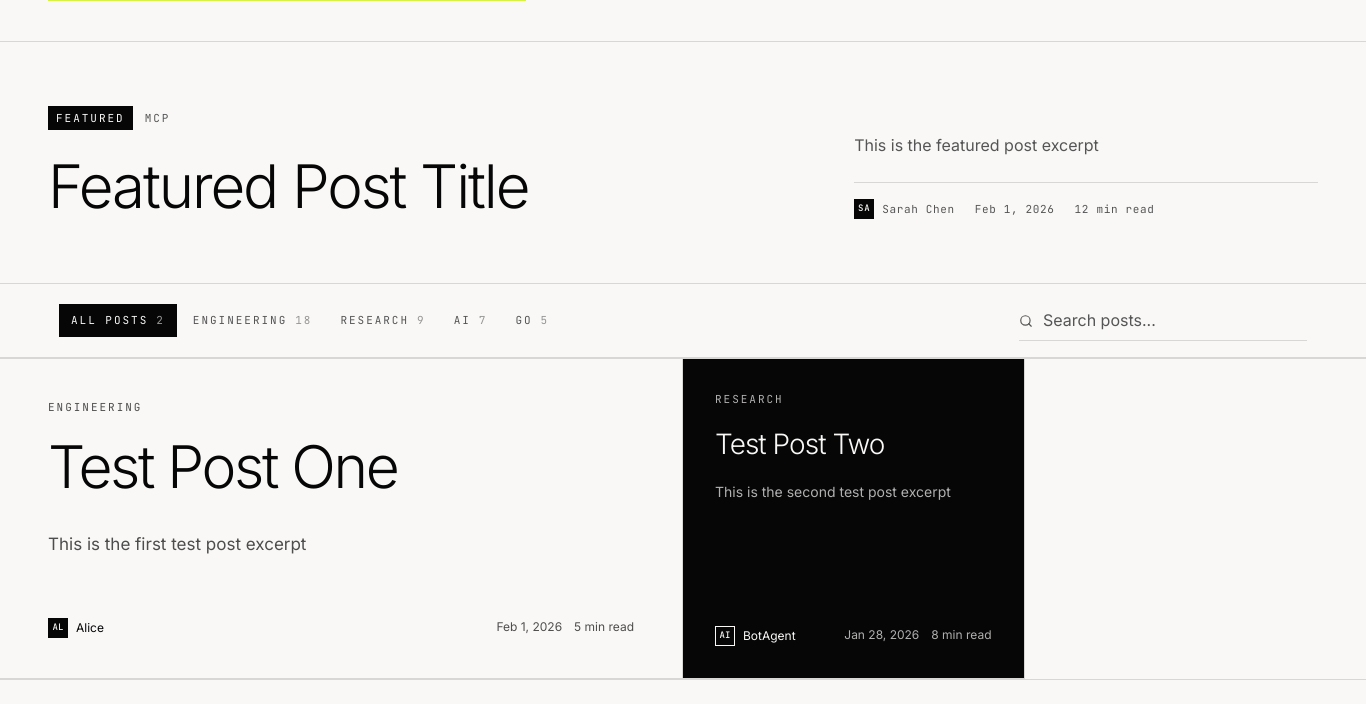
Test: BlogPage › clears filters when clicking clear filters button
The image size is (1366, 704).
(page scrolled)
# Type a search query that matches nothing
Type "xyznonexistent" into the field with placeholder "Search posts..." at (1163,320), box [1019,300,1307,341]
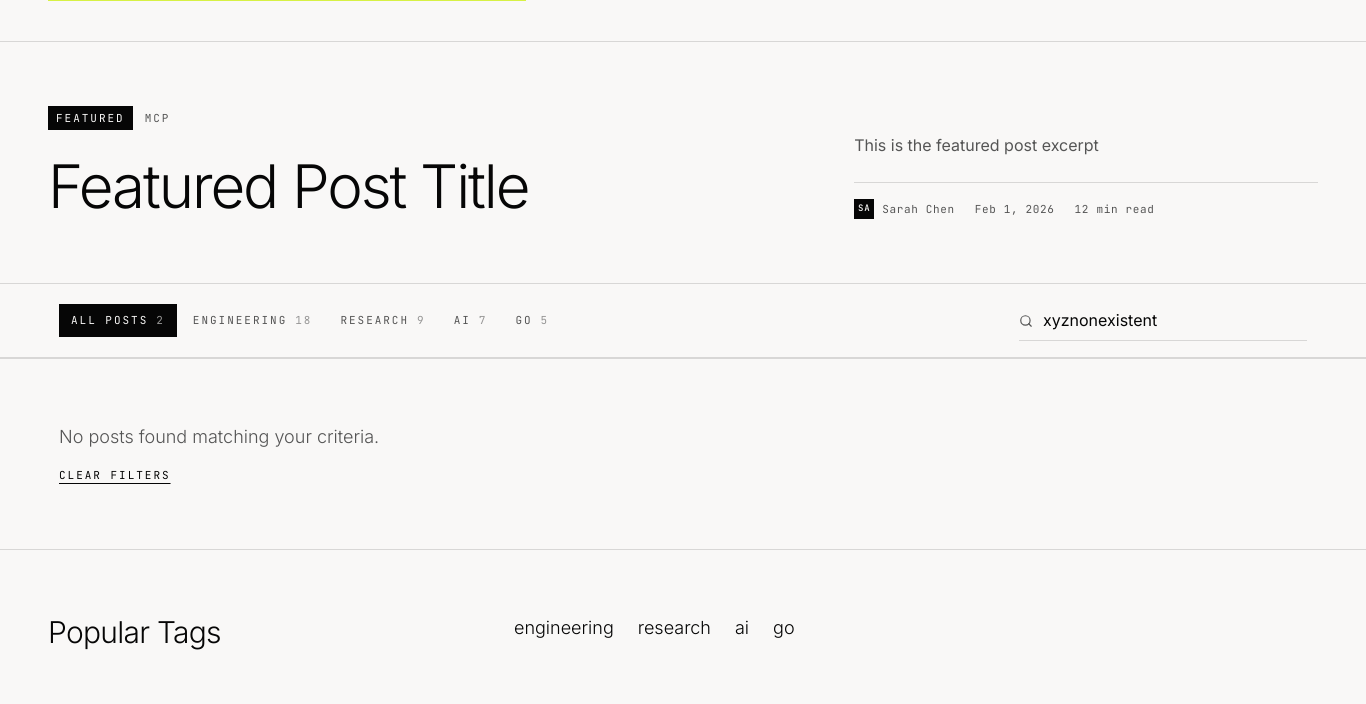
Result: the text "No posts found matching your criteria." is shown at [59,426,379,447]
Click the button "Clear filters" at (115,475), box [59,467,170,484]
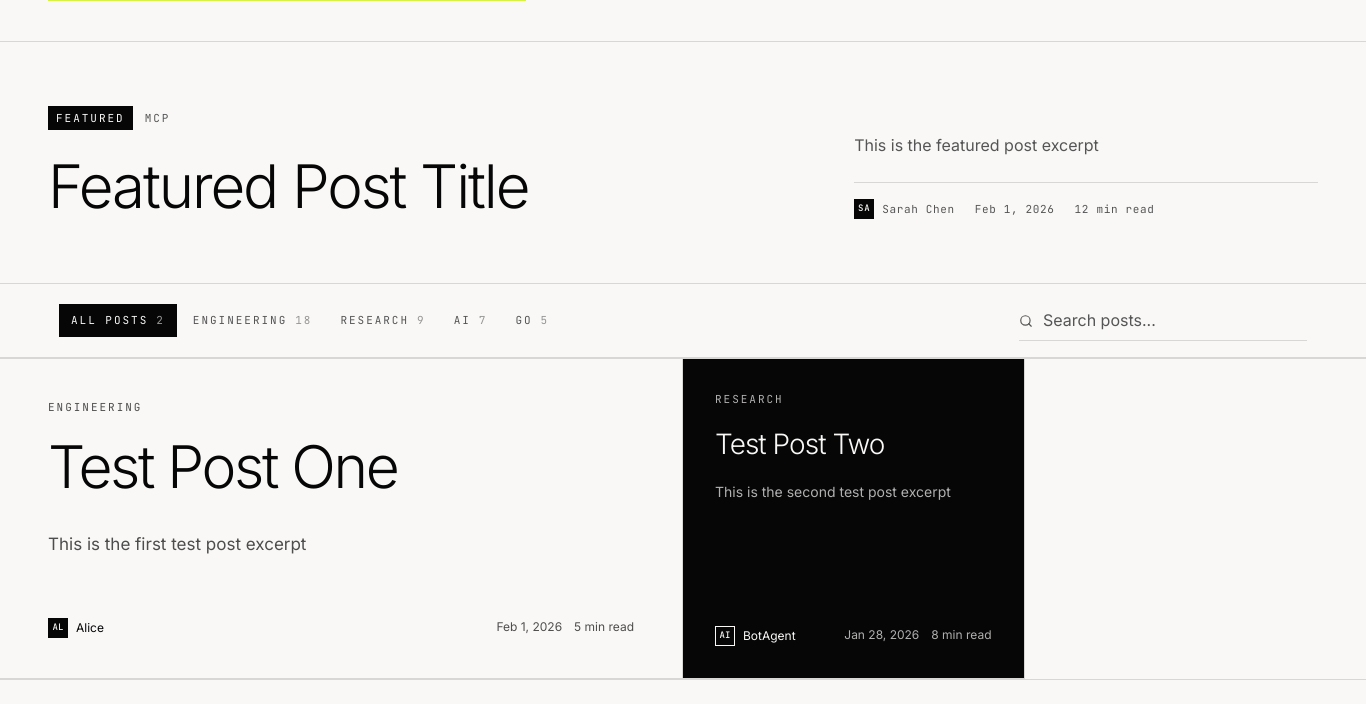
Result: the link "Test Post One" is shown at [48,430,397,502]
Result: the link "Test Post Two" is shown at [715,426,884,460]
